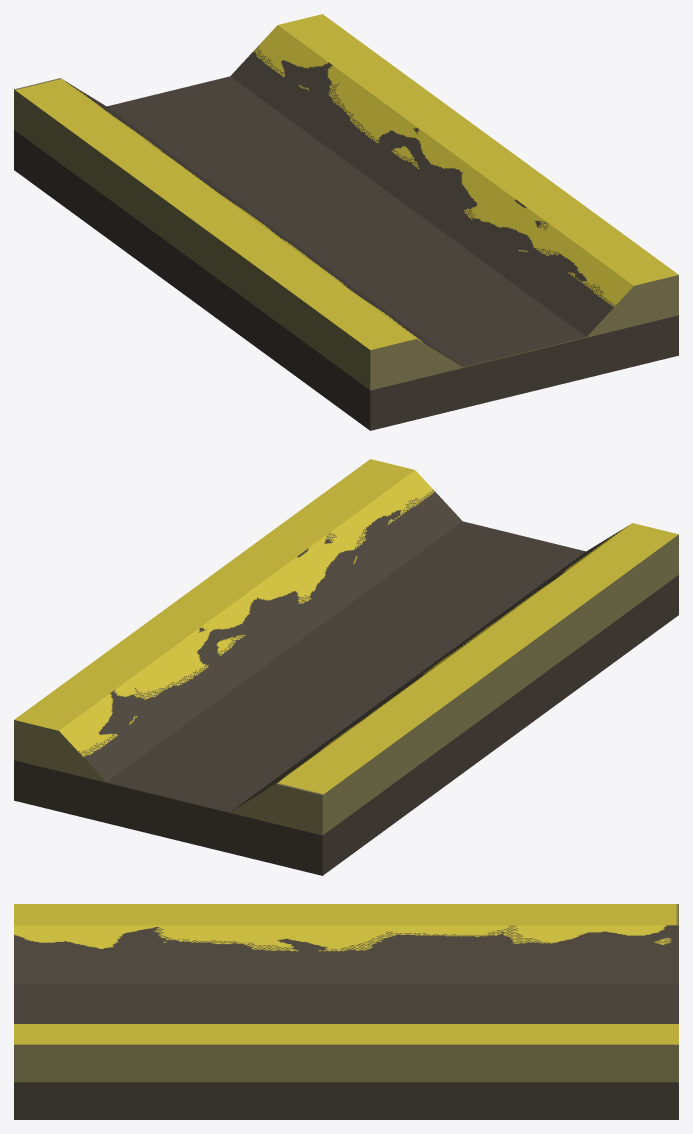
Rendered from tile1_2 rift line.fbx.
3 renders of one model, top to bottom at view 1: azimuth 30°, elevation 25°; view 2: azimuth 150°, elevation 25°; view 3: azimuth 270°, elevation 25°, orthographic. The views are drawn at different scales.
Parts seen in each view (by area): view 1: Cube; view 2: Cube; view 3: Cube.
Part boxes in pixels (x1,y1,x2,y2): Cube: (14, 14, 678, 430); Cube: (14, 459, 678, 875); Cube: (14, 904, 678, 1119).
Size of the model in its own units: 200 by 50 by 400.
Materials: 1 (1 with a texture image).
